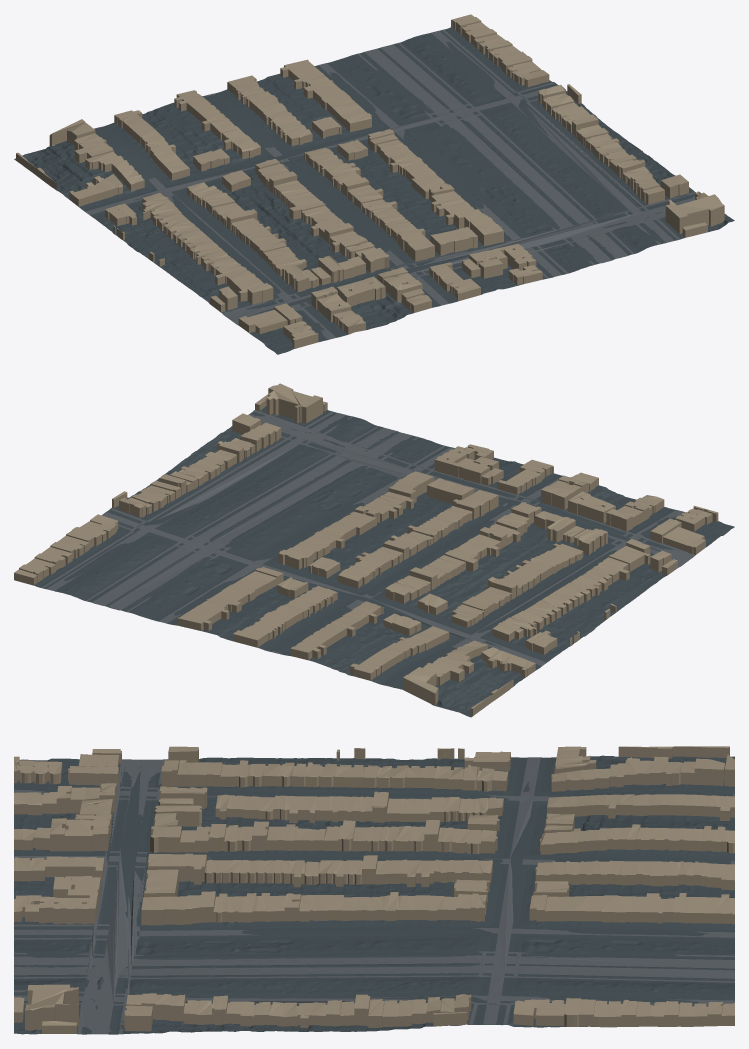
The model's file is epsg26910-1417-10883.lod0.glb.
3 renders of one model, top to bottom at view 1: azimuth 30°, elevation 25°; view 2: azimuth 150°, elevation 25°; view 3: azimuth 270°, elevation 25°, orthographic. The views are drawn at different scales.
Visible parts, largest first — view 1: epsg26910-1417-10883-lod0; view 2: epsg26910-1417-10883-lod0; view 3: epsg26910-1417-10883-lod0.
Part boxes in pixels (left/top/right/bottom): epsg26910-1417-10883-lod0: left=14, top=14, right=734, bottom=354; epsg26910-1417-10883-lod0: left=14, top=383, right=734, bottom=717; epsg26910-1417-10883-lod0: left=14, top=746, right=734, bottom=1034.
Bounding box in the file's own units: 384 × 31.91 × 384.
